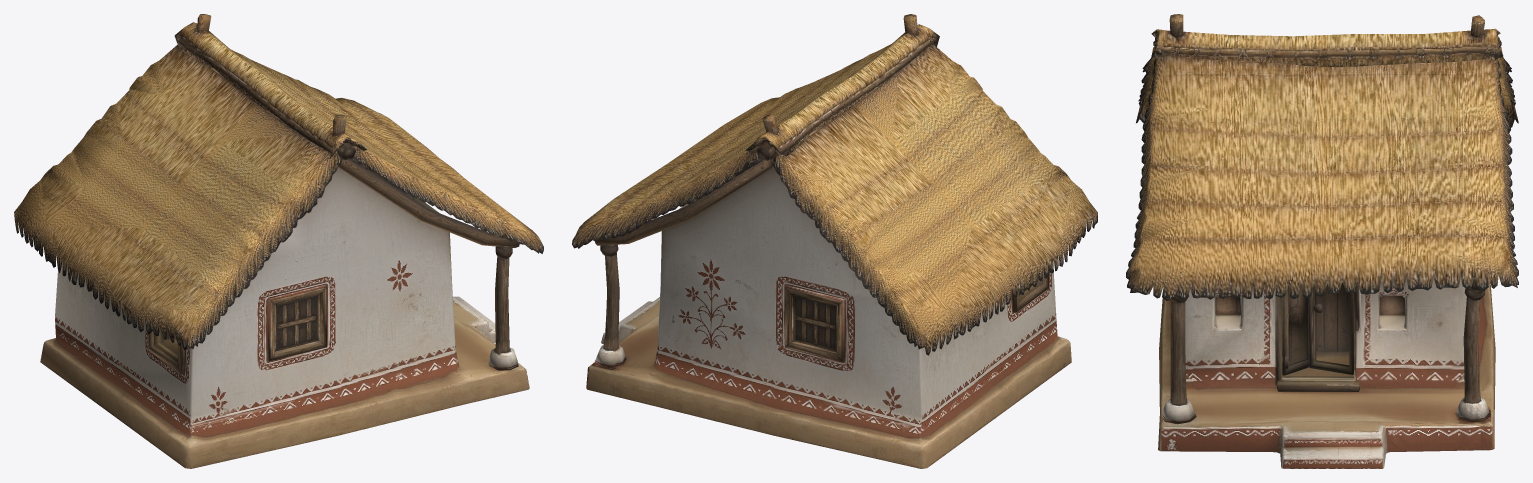
Rendered from tripo_convert_160d87c1-de37-4c01-9077-953f4f33893d.fbx.
The picture shows the model from 3 angles, left to right: view 1: azimuth 30°, elevation 25°; view 2: azimuth 150°, elevation 25°; view 3: azimuth 270°, elevation 25°; orthographic projection. The views are drawn at different scales.
Parts seen in each view (by area): view 1: tripo_node_160d87c1; view 2: tripo_node_160d87c1; view 3: tripo_node_160d87c1.
Part boxes in pixels (x1=…): tripo_node_160d87c1: x1=14, y1=14, x2=543, y2=468; tripo_node_160d87c1: x1=572, y1=14, x2=1097, y2=468; tripo_node_160d87c1: x1=1126, y1=14, x2=1518, y2=468.
Bounding box in the file's own units: 0.998 × 0.752 × 0.791.
